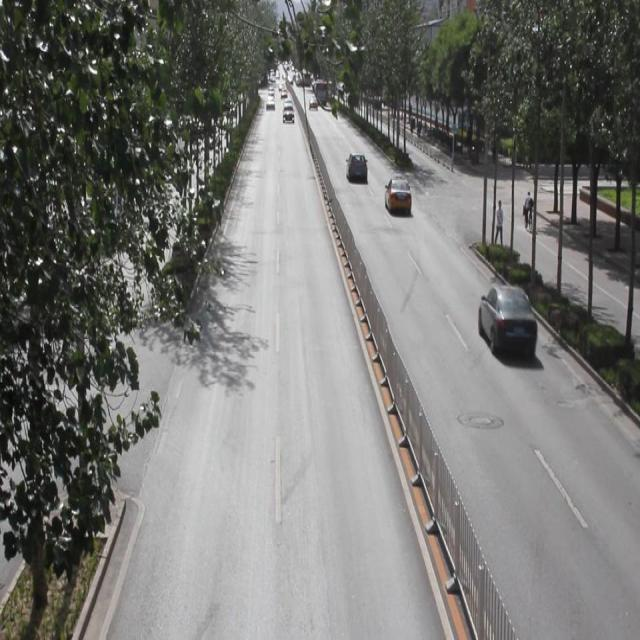car: (477, 282, 536, 358), (383, 173, 411, 215), (346, 149, 368, 185)
